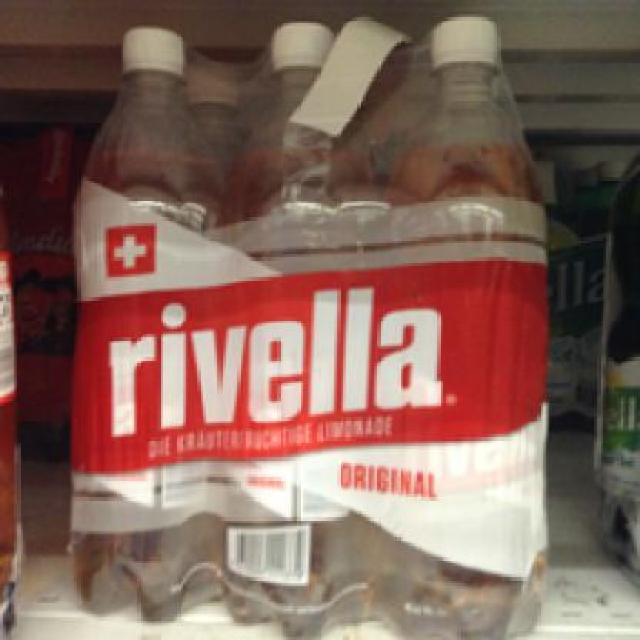Soda: (377, 12, 543, 638), (222, 17, 378, 637), (74, 25, 223, 626)
